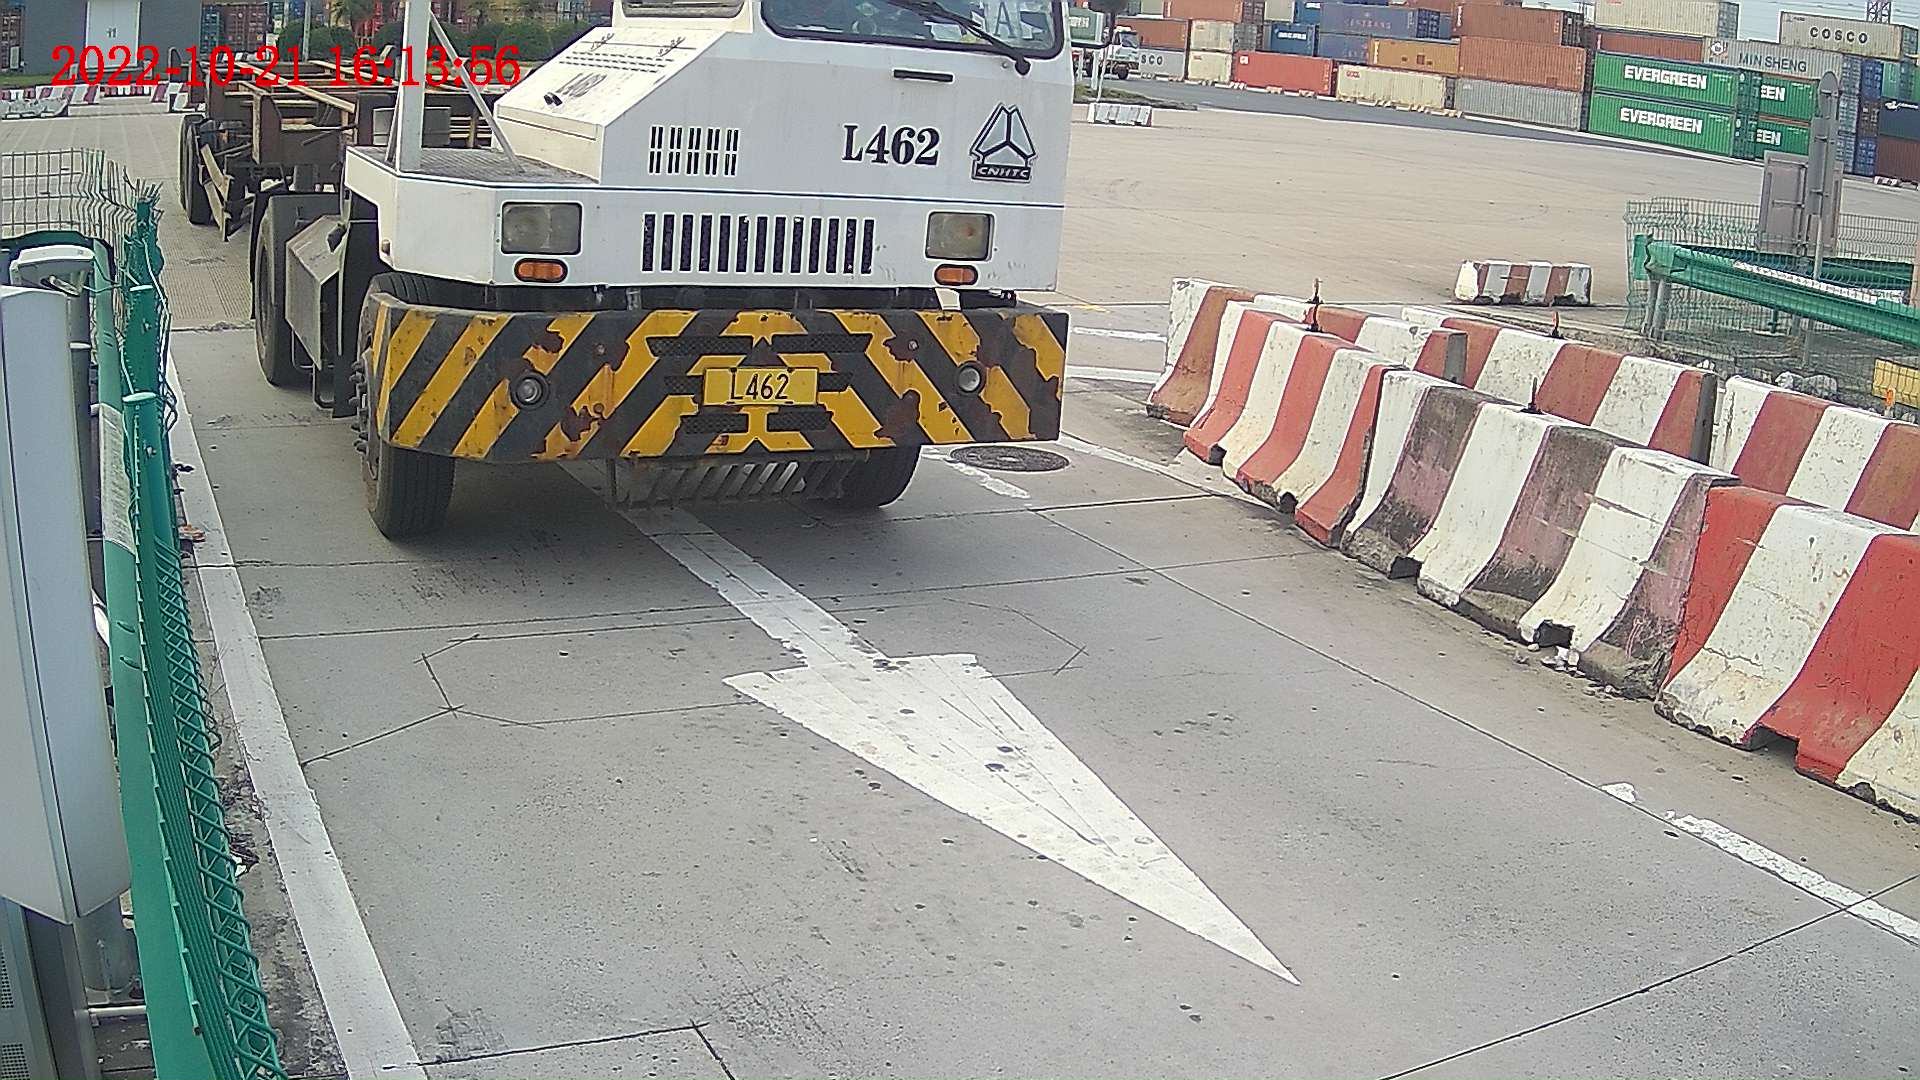head: (314, 1, 1072, 528)
plate: (709, 369, 817, 410)
